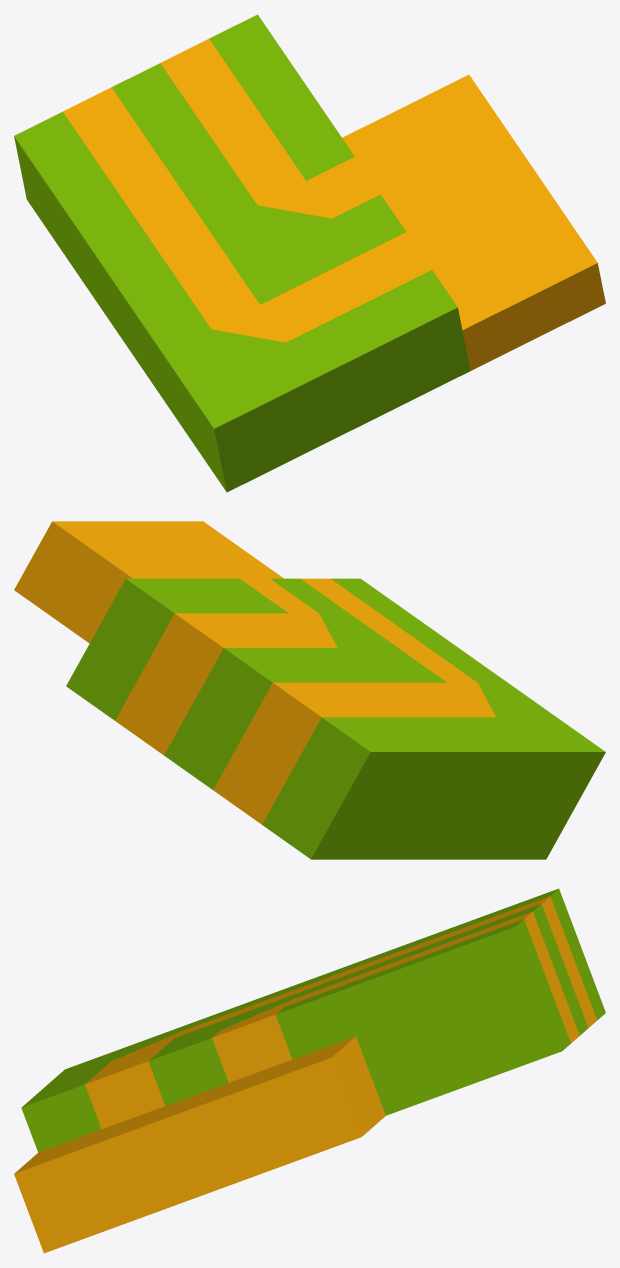
File: green-electronic-circuit.glb
The picture shows the model from 3 angles, top to bottom: view 1: azimuth 30°, elevation 25°; view 2: azimuth 150°, elevation 25°; view 3: azimuth 270°, elevation 25°; orthographic projection. The views are drawn at different scales.
Parts seen in each view (by area): view 1: Cube.021; view 2: Cube.021; view 3: Cube.021.
Boxes of the visible parts, x1=… form: Cube.021: x1=14, y1=14, x2=605, y2=492; Cube.021: x1=14, y1=521, x2=605, y2=859; Cube.021: x1=14, y1=888, x2=605, y2=1253.
Bounding box in the file's own units: 4.62 × 3.58 × 5.
1 material, 1 textured.
